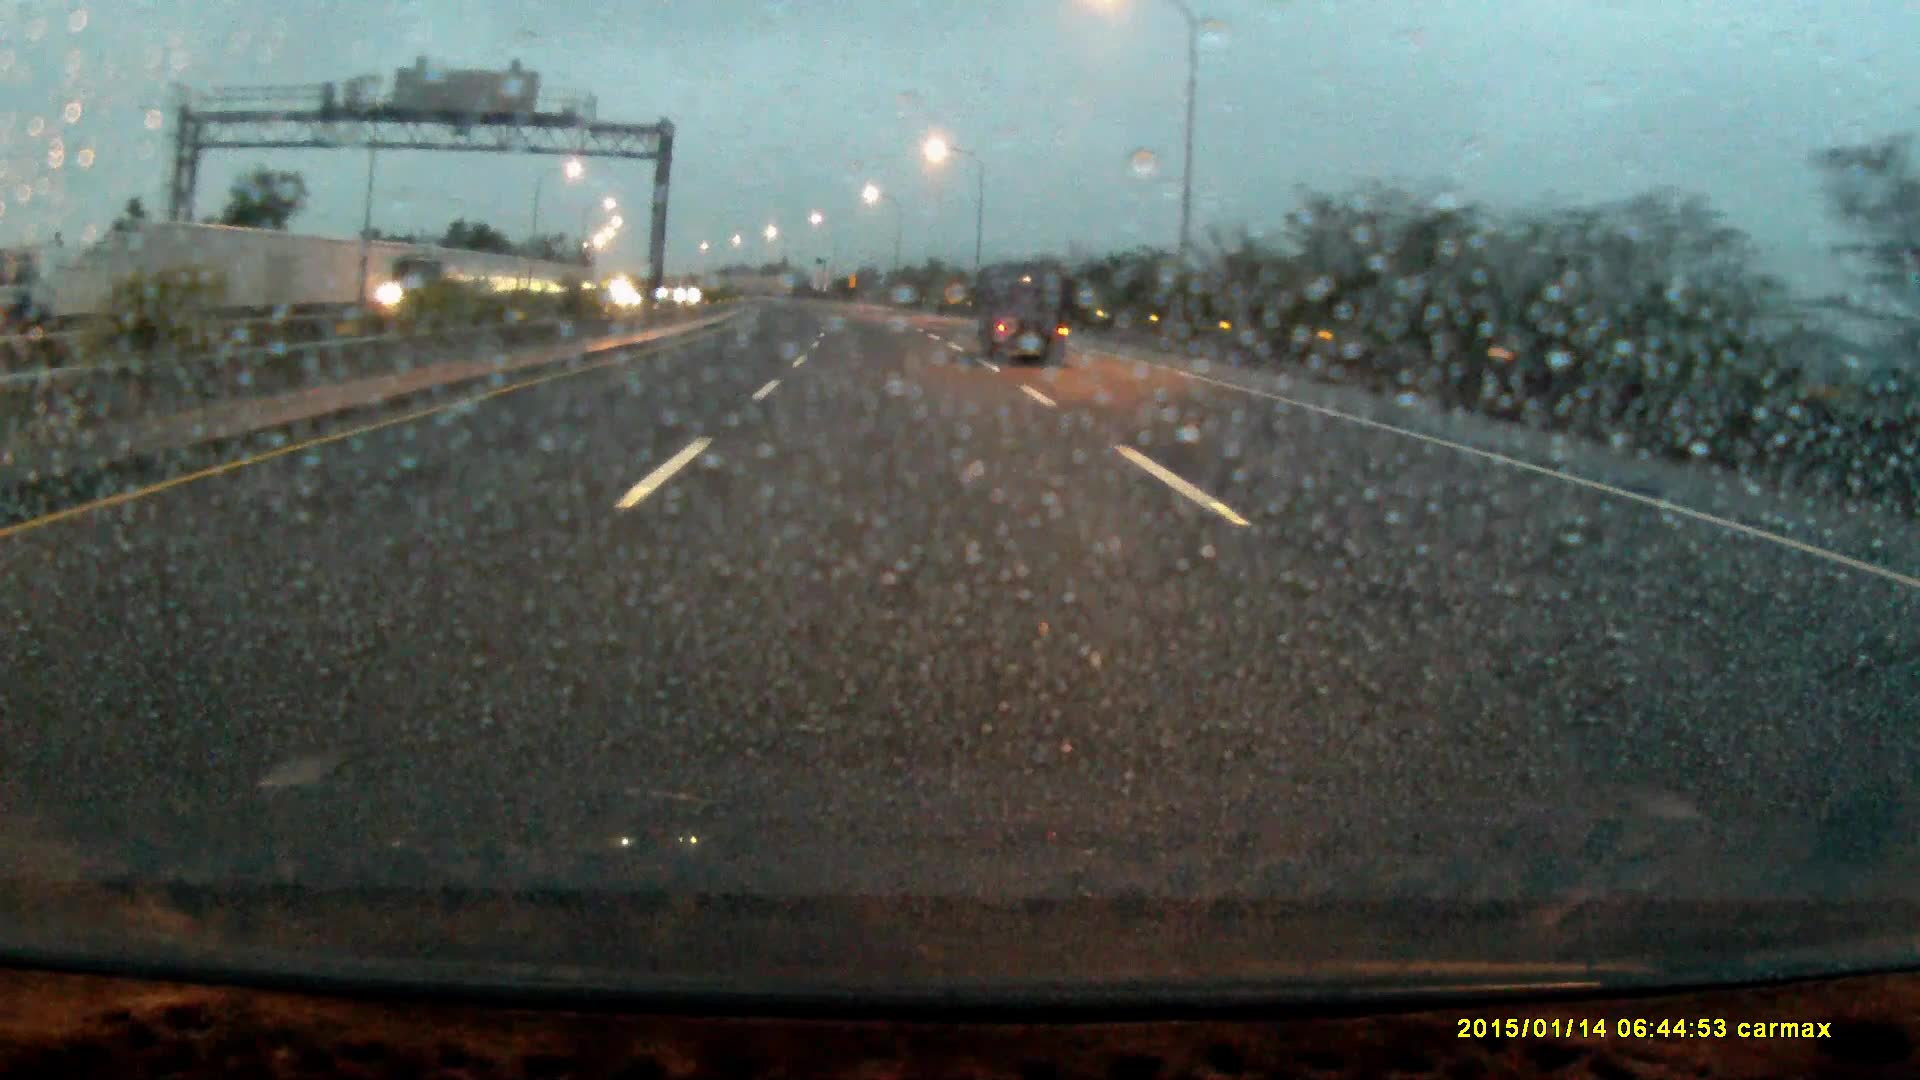vehicle: (981, 270, 1067, 365), (378, 253, 493, 319)
